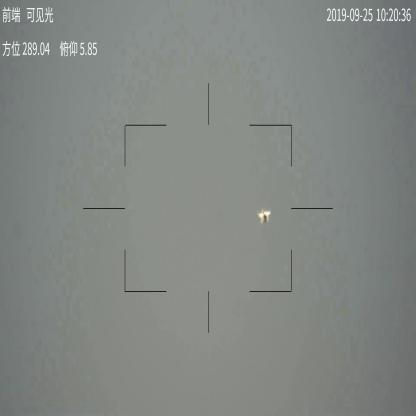uav: (256, 208, 272, 224)
